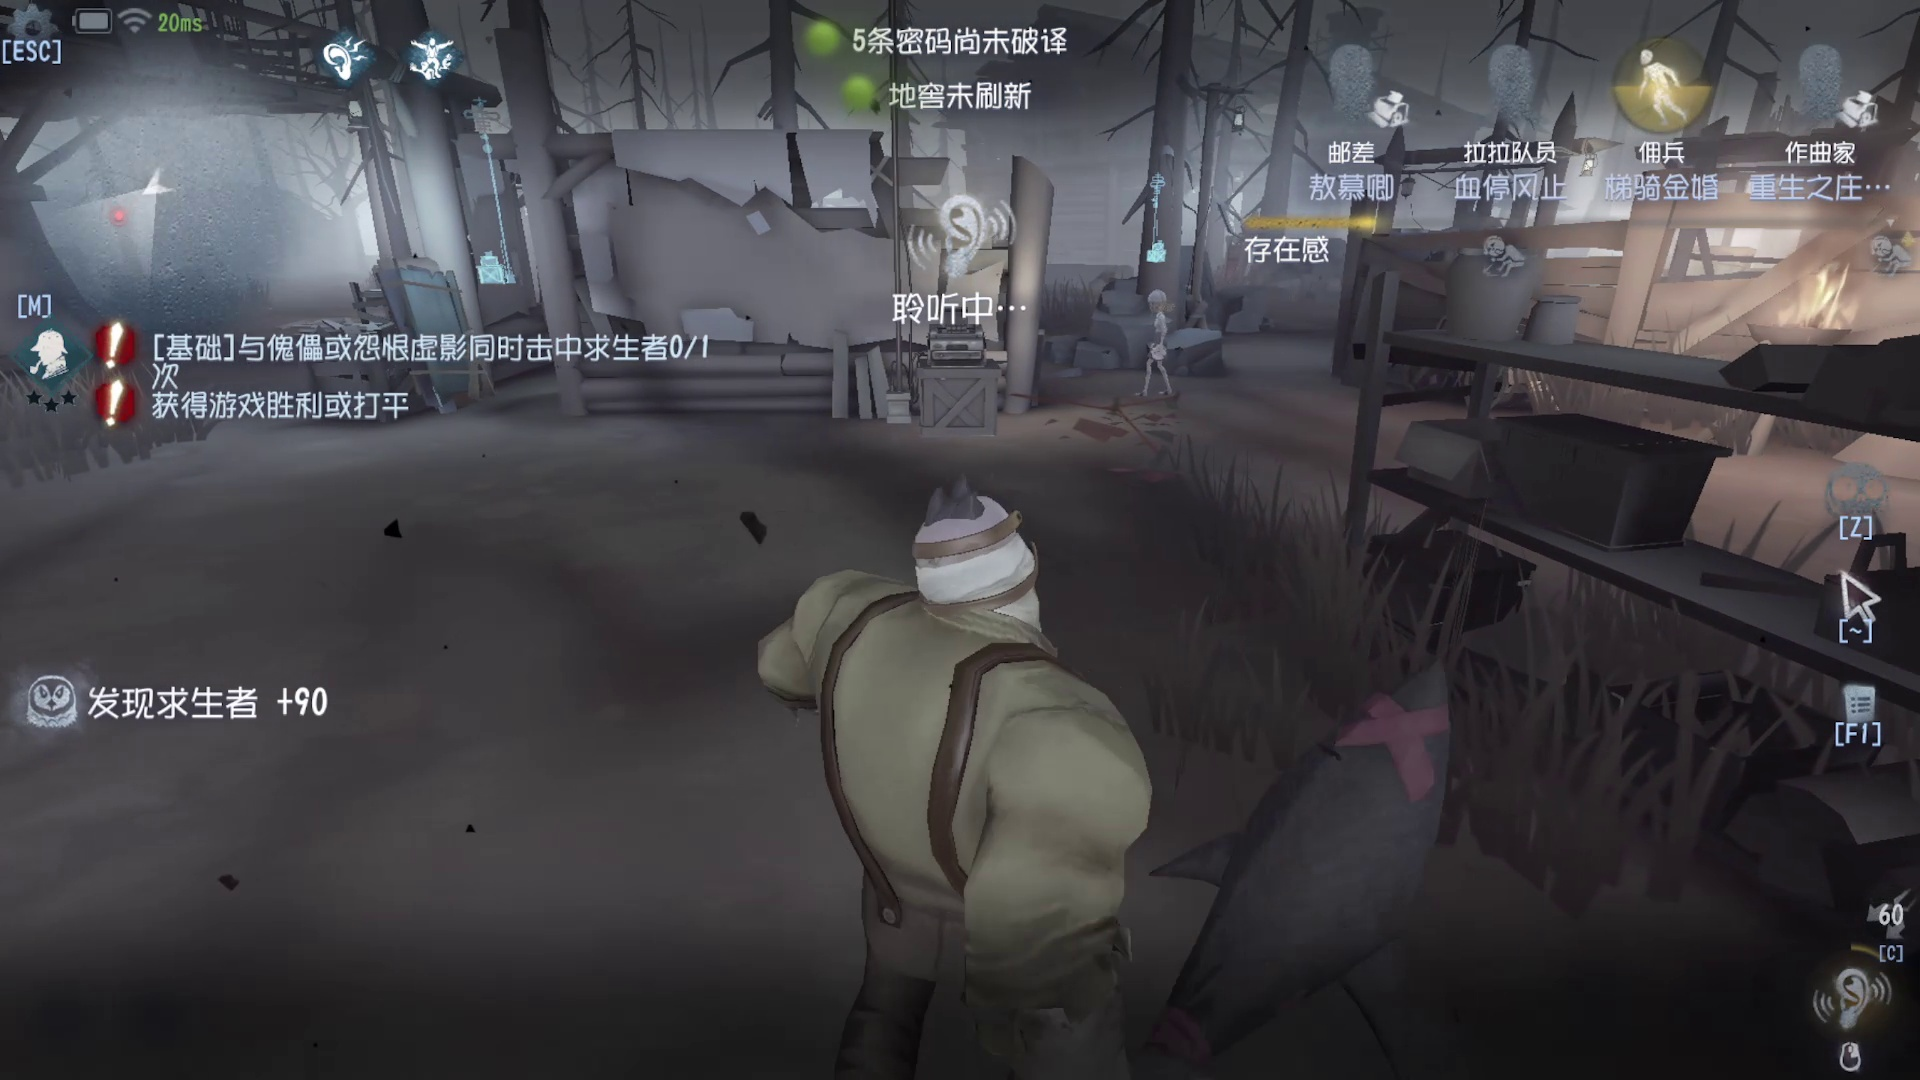密码机: (435, 87, 574, 316), (880, 277, 1015, 443), (1129, 156, 1174, 277)
求生者: (1138, 265, 1203, 418)
